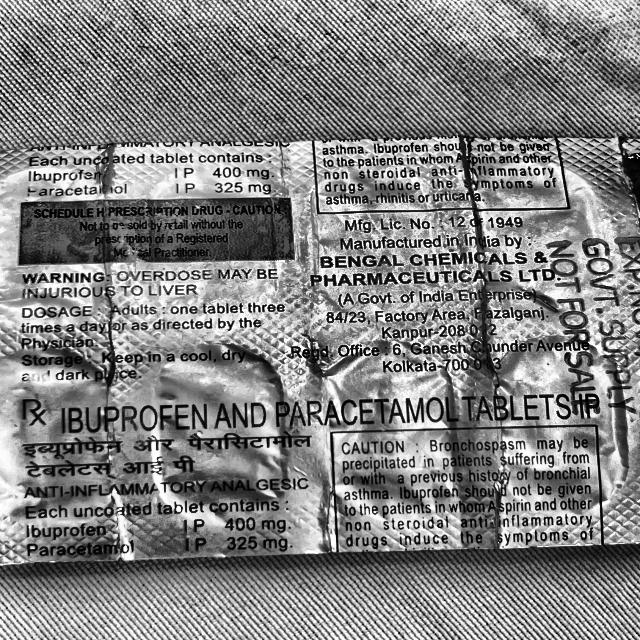IBUPROFEN AND PARACETAMOL TABLETS: (58, 401, 612, 432)
